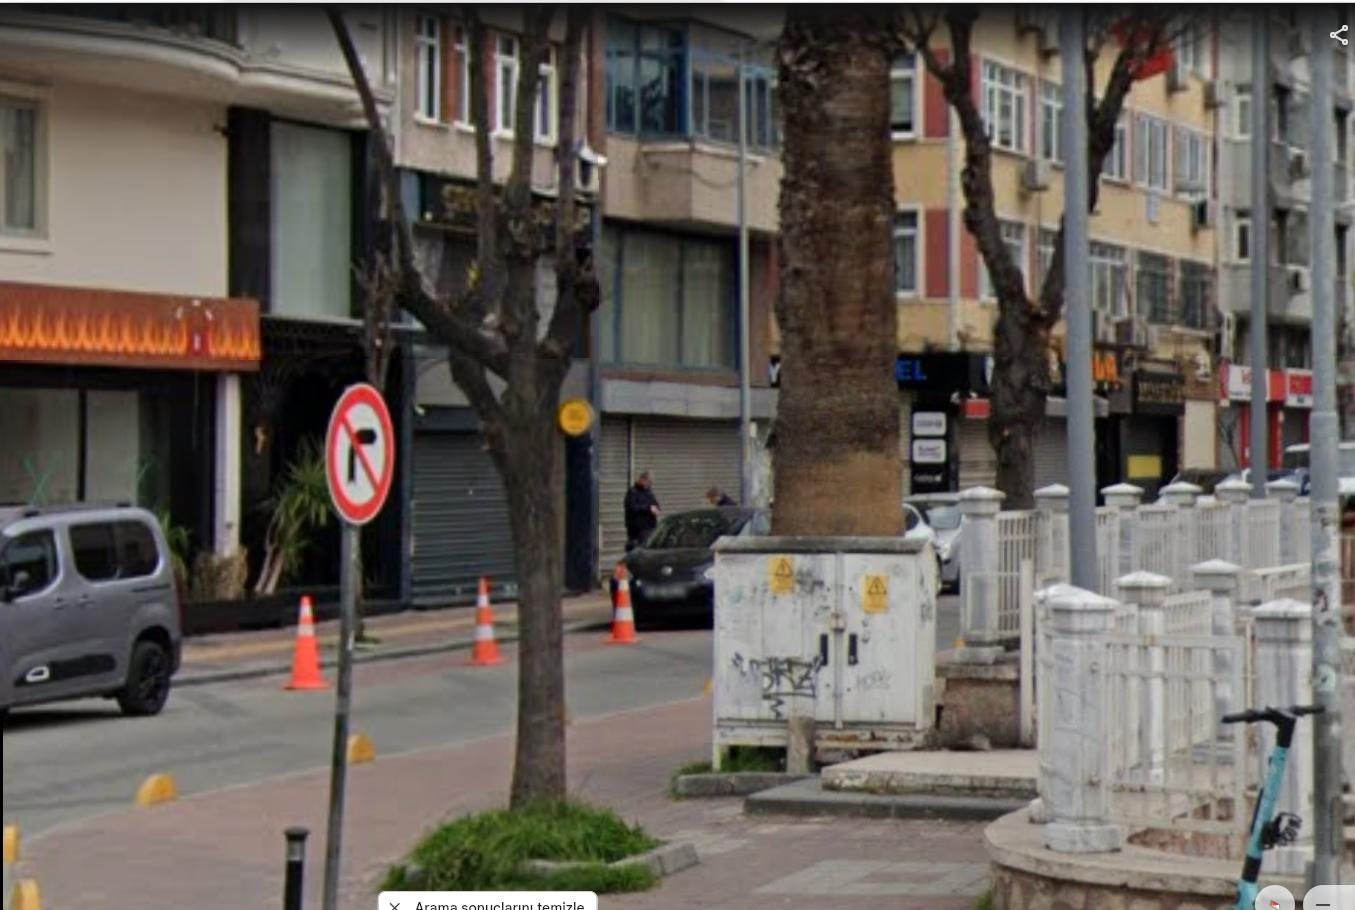rightturnsareforbidden: (322, 382, 397, 521)
